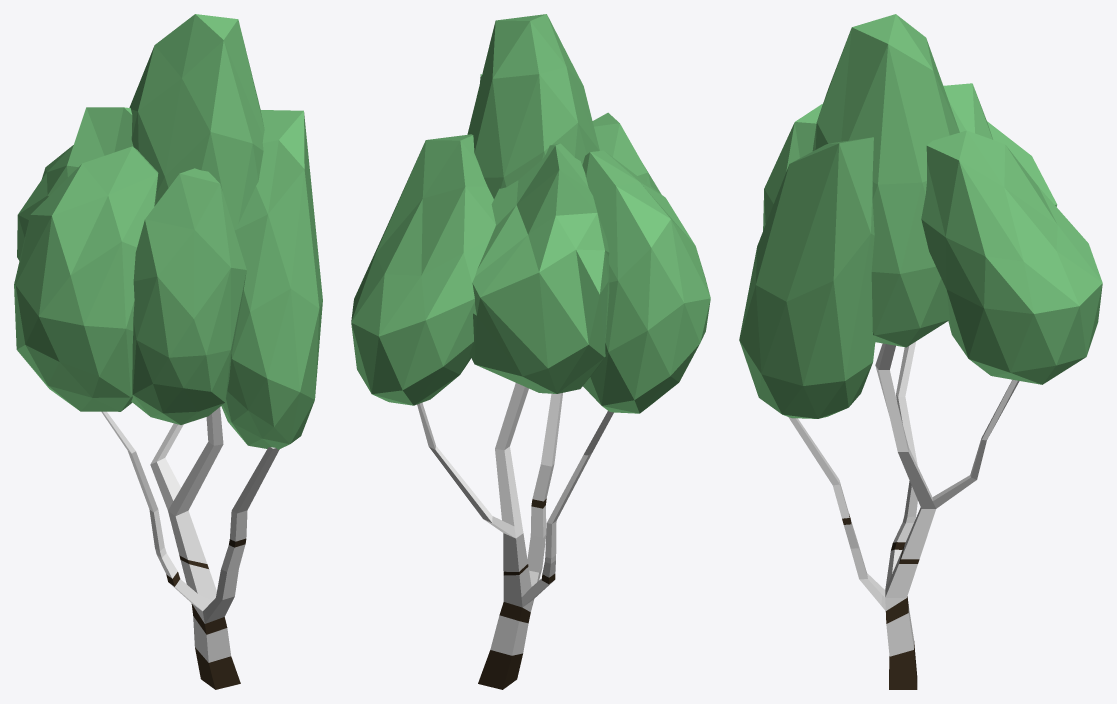
Rendered from BirchTree3.fbx.
3 renders of one model, left to right at view 1: azimuth 30°, elevation 25°; view 2: azimuth 150°, elevation 25°; view 3: azimuth 270°, elevation 25°, orthographic. The views are drawn at different scales.
Visible parts, largest first — view 1: Icosphere.002; view 2: Icosphere.002; view 3: Icosphere.002.
Part boxes in pixels (bbox=[...]): Icosphere.002: bbox=[14, 14, 322, 689]; Icosphere.002: bbox=[351, 14, 710, 689]; Icosphere.002: bbox=[739, 14, 1102, 689].
Size of the model in its own units: 559 by 1294 by 650.
